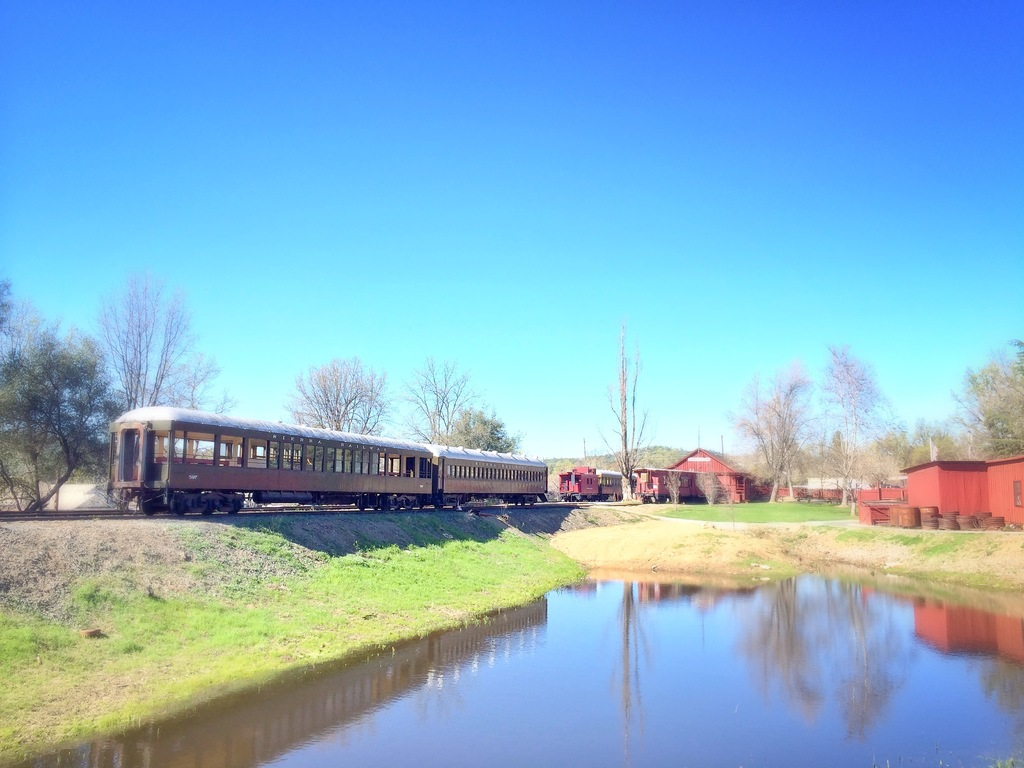train: (106, 405, 547, 516)
